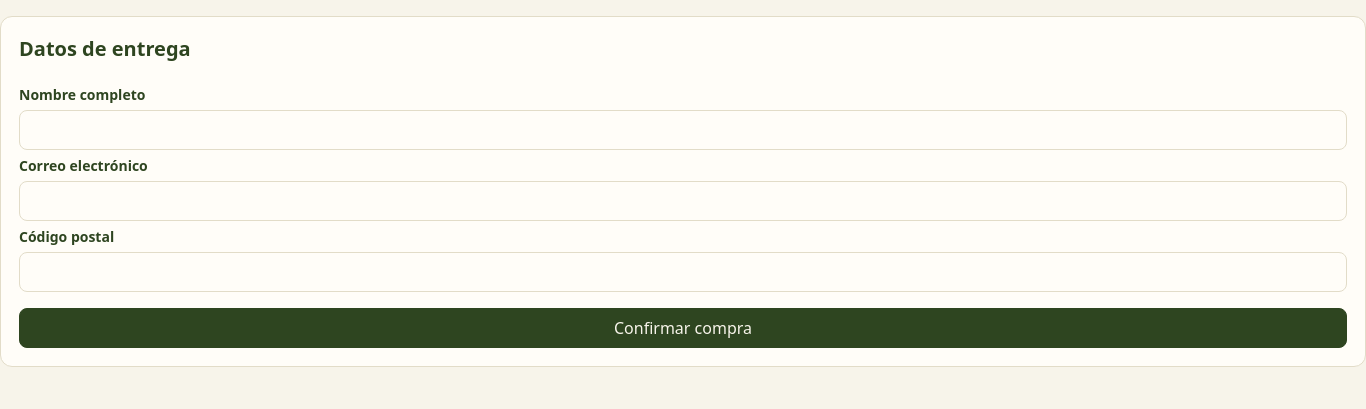
Test case: FormularioCheckout › muestra el error específico de cada campo
The image size is (1366, 409).
Step 1. Type "Ana López" into the field labelled "Nombre completo" → (683, 130), box [19,110,1347,150]
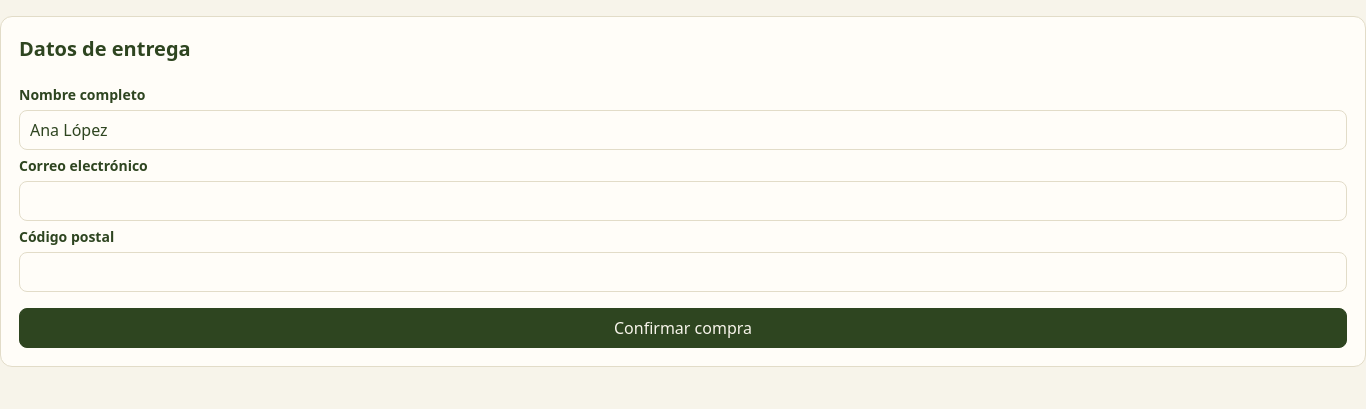
Step 2. Type "ana@correo" into the field labelled "Correo electrónico" → (683, 201), box [19,181,1347,221]
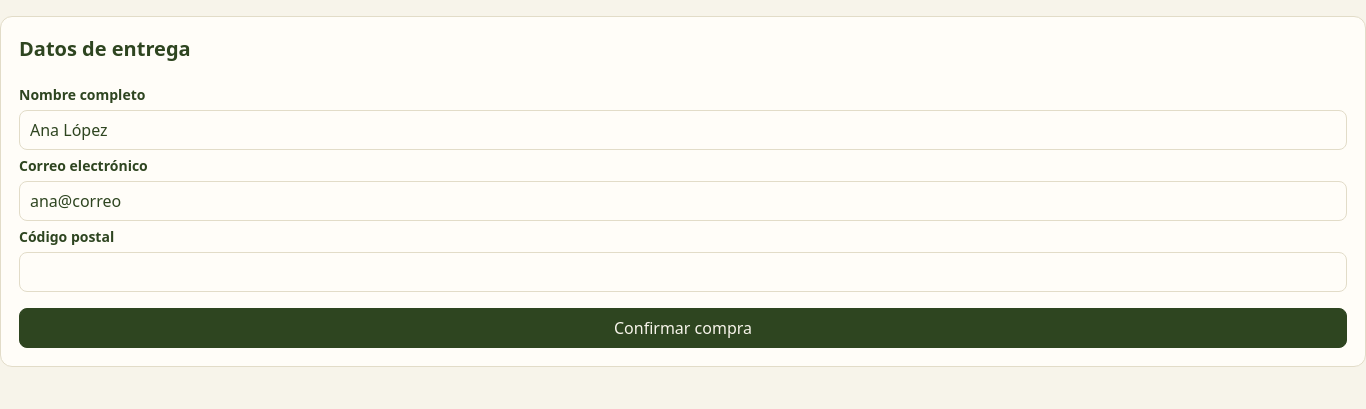
Step 3. Type "1101" into the field labelled "Código postal" → (683, 272), box [19,252,1347,292]
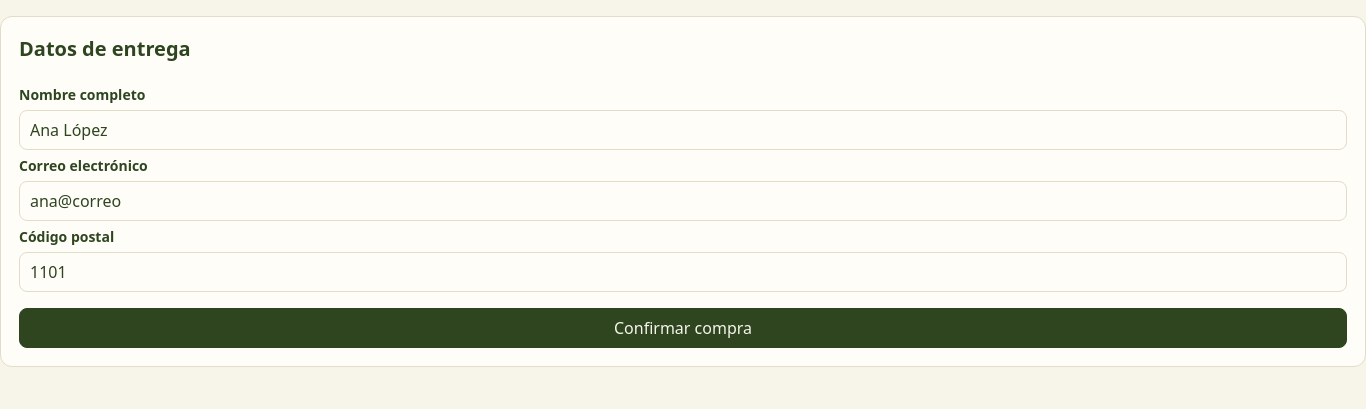
Step 4. Click the button "Confirmar compra" → (683, 328), box [19,308,1347,348]
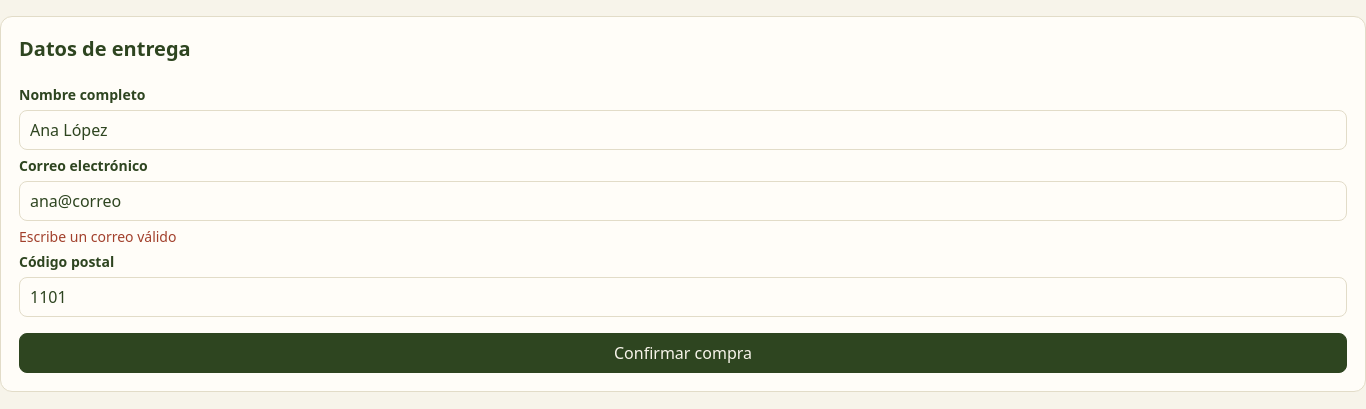
Now the message reads "Escribe un correo válido", box [19,227,176,246]
